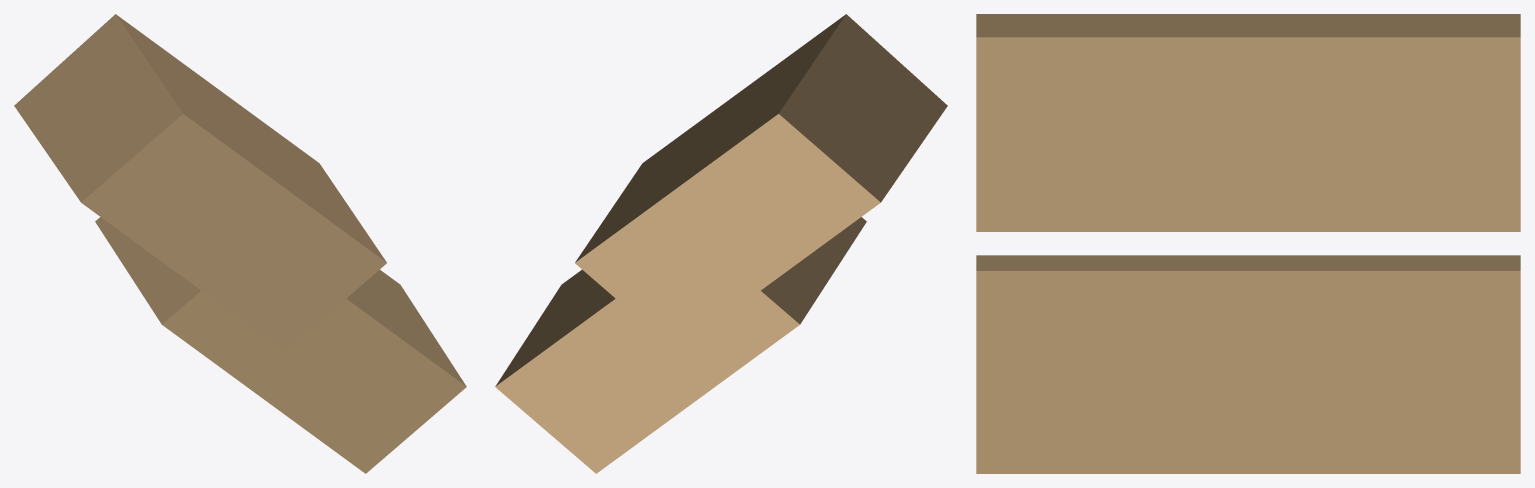
3 renders of one model, left to right at view 1: azimuth 30°, elevation 25°; view 2: azimuth 150°, elevation 25°; view 3: azimuth 270°, elevation 25°, orthographic. The views are drawn at different scales.
Visible parts, largest first — view 1: 0_0_3_2_0_0_1_2_3_1; view 2: 0_0_3_2_0_0_1_2_3_1; view 3: 0_0_3_2_0_0_1_2_3_1.
Part boxes in pixels (bbox=[...]): 0_0_3_2_0_0_1_2_3_1: bbox=[14, 14, 466, 473]; 0_0_3_2_0_0_1_2_3_1: bbox=[495, 14, 947, 473]; 0_0_3_2_0_0_1_2_3_1: bbox=[976, 14, 1520, 473].
Size of the model in its own units: 16.91 by 20.91 by 24.
